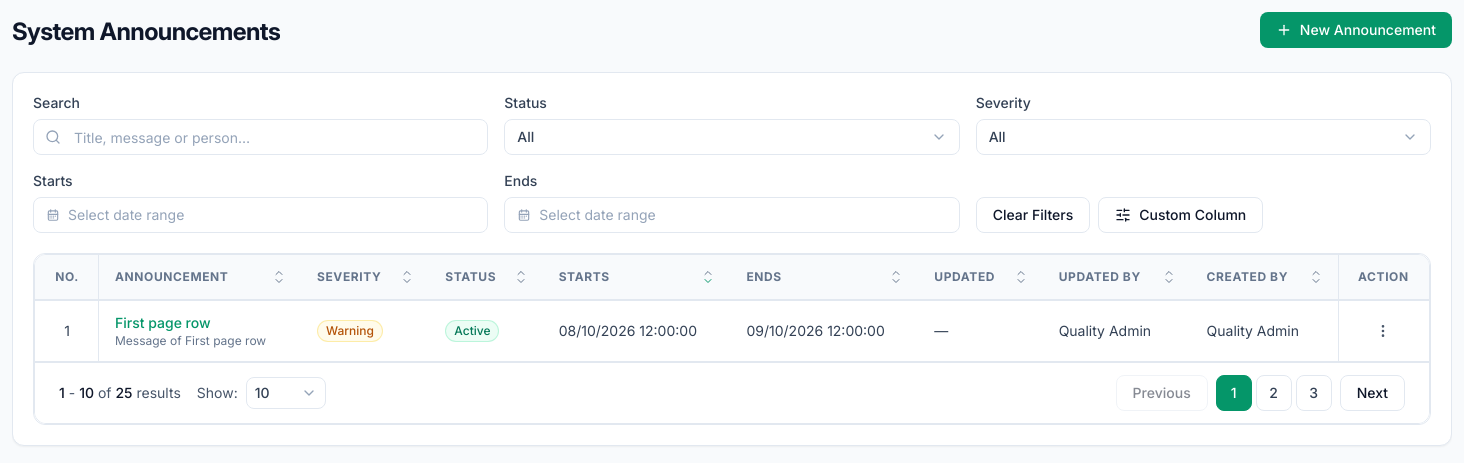
pages on the server and shows what the server reports
Check: the button "First page row" is shown, box top-left (115, 313), bottom-right (211, 333)
Check: the text "25" is shown, box top-left (116, 384), bottom-right (133, 401)
What coordinates should you click on to do the following:
click the button "Next"
I would click on:
 (1372, 393)
Its box is top-left (1340, 375), bottom-right (1405, 411).
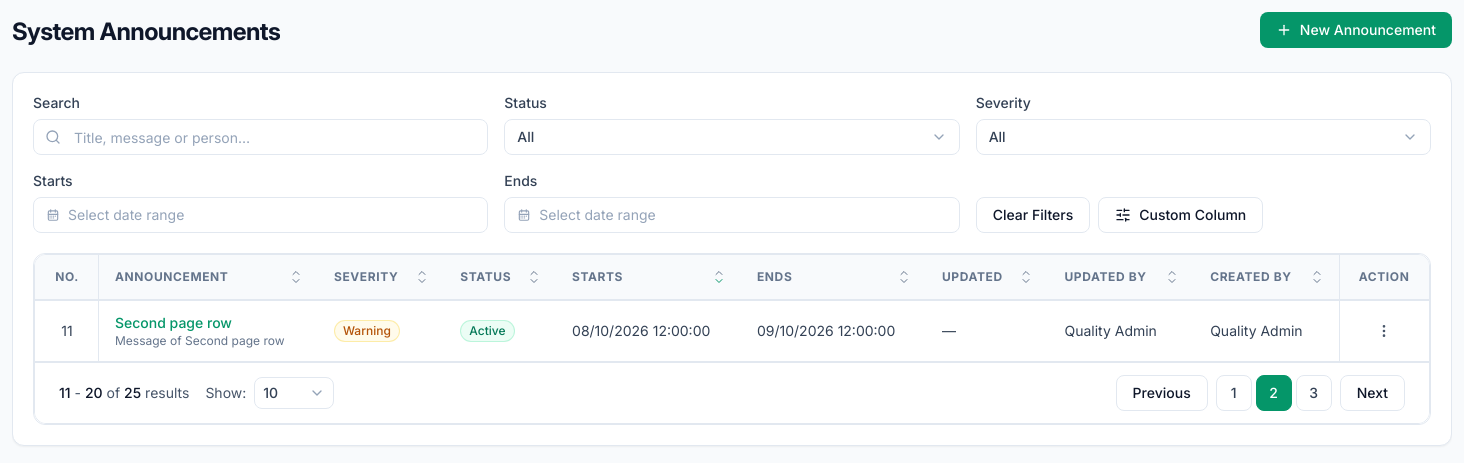
Check: the button "Second page row" is shown, box top-left (115, 313), bottom-right (232, 333)
